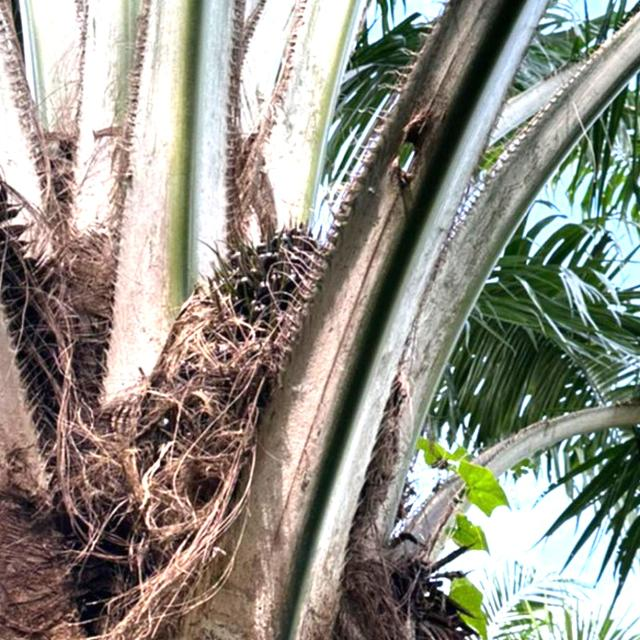unripe: (124, 204, 432, 566)
